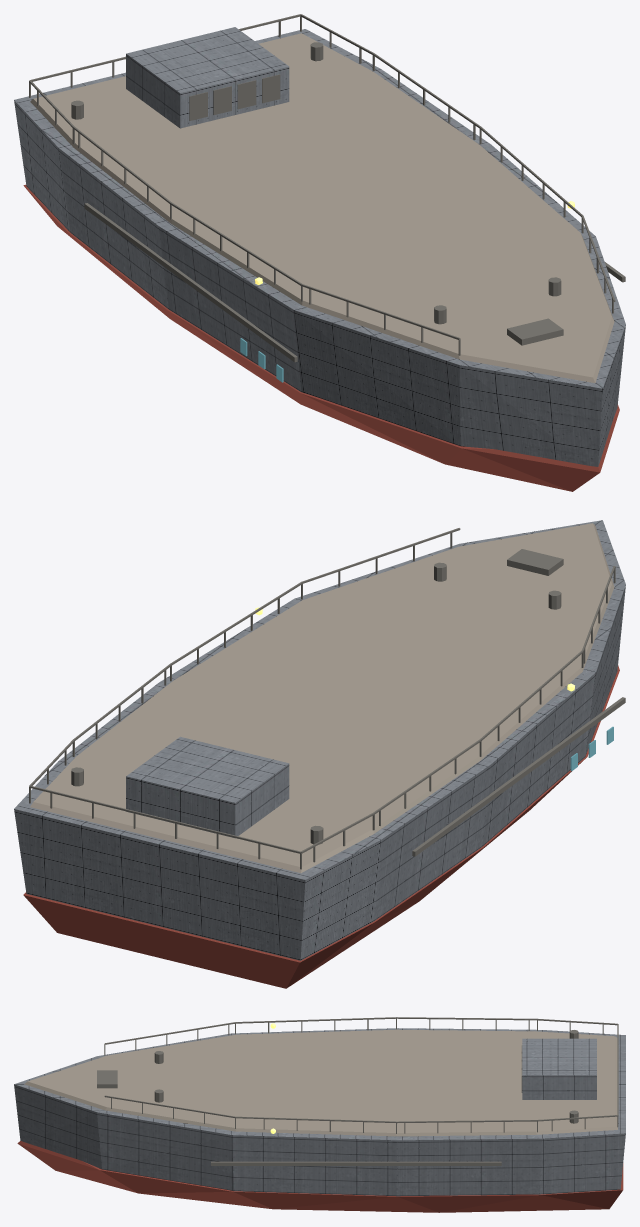
The model's file is groundkit.glb.
3 views of the same model, one above another, from view 1: azimuth 30°, elevation 25°; view 2: azimuth 150°, elevation 25°; view 3: azimuth 270°, elevation 25° (orthographic). The views are drawn at different scales.
Parts seen in each view (by area): view 1: hull; view 2: hull; view 3: hull.
Part boxes in pixels (left/top/right/bottom): hull: left=14, top=14, right=625, bottom=491; hull: left=14, top=520, right=625, bottom=988; hull: left=14, top=1017, right=625, bottom=1212.
Bounding box in the file's own units: 12.8 × 7.13 × 29.5.
Materials: 8 (2 with a texture image).
